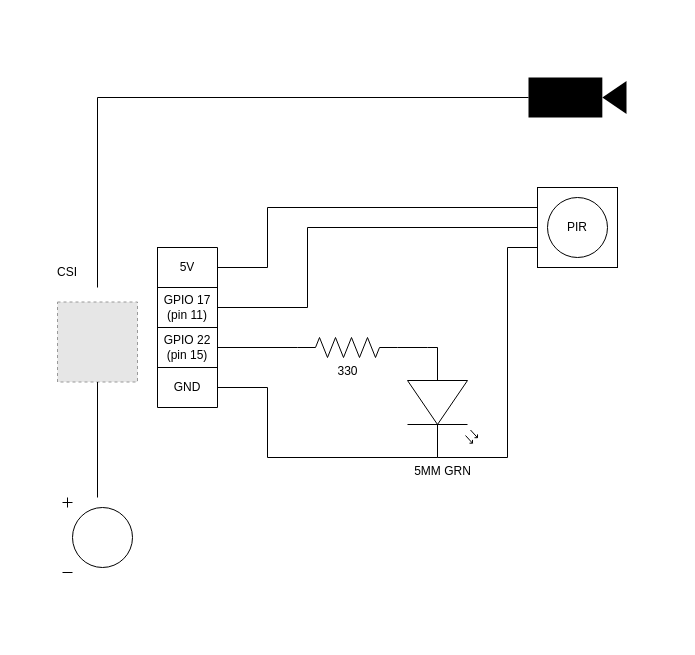
This 695x655 diagram has some shape labels left out. Grey dashed boxes stand in for pictures. The centre of each missing label's shape, as x and y in pixels:
"5V DC 2.5A" goes at (97,534).
"CAM" goes at (577,97).
